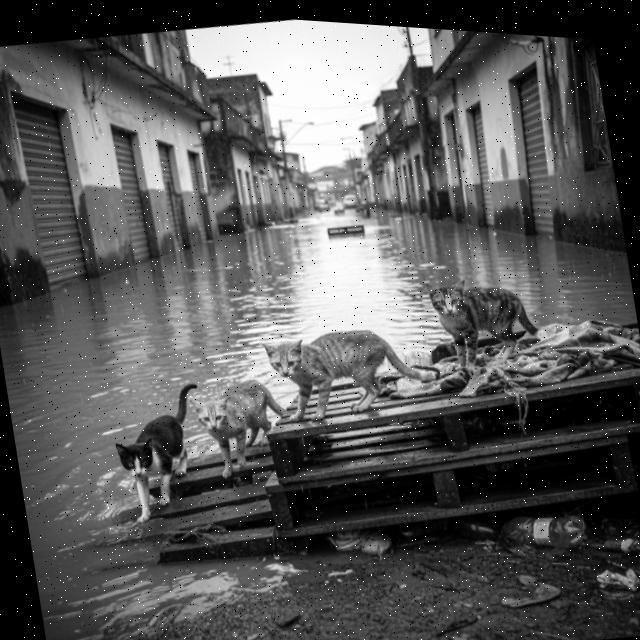cat: (256, 301, 436, 436), (97, 371, 212, 527), (412, 257, 540, 375), (187, 358, 301, 481)
